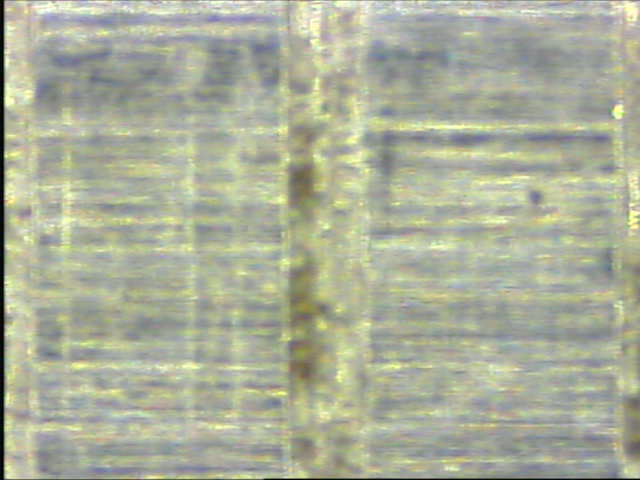line: (278, 2, 373, 475)
